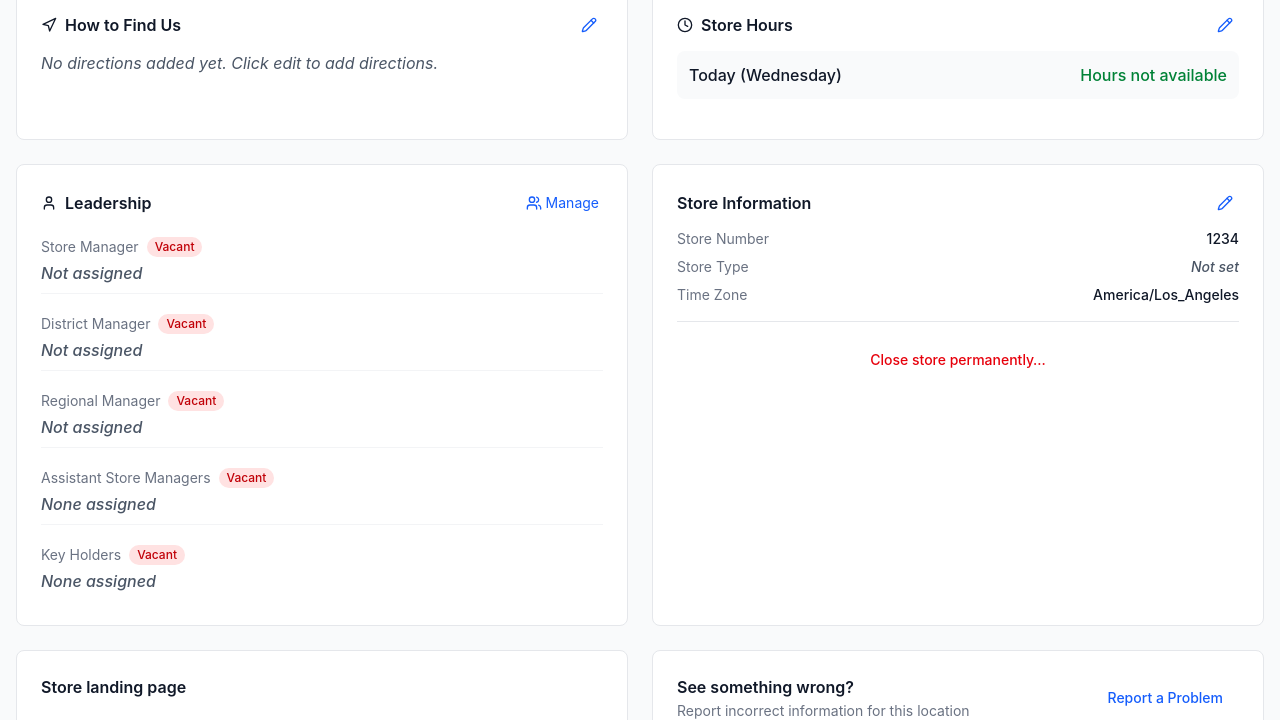
Test: LocationDetailView close and restore › enables the close button only when the typed number matches, including trimmed spaces
The image size is (1280, 720).
(page scrolled)
Click the button "Close store permanently…": (958, 360) left=677, top=338, right=1239, bottom=382
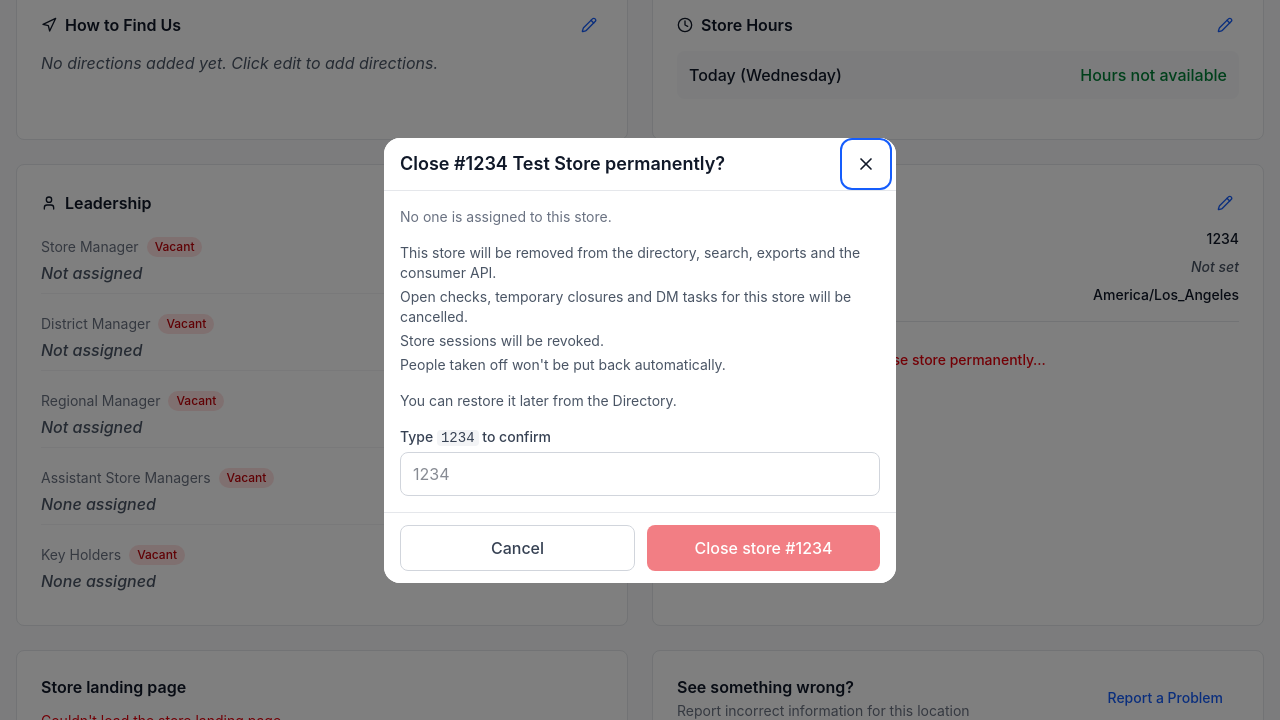
Check: the dialog is shown, box left=384, top=138, right=896, bottom=582
Check: the text "No one is assigned to this store." is shown, box left=400, top=208, right=612, bottom=224
Check: the button "Close store #1234" is disabled, box left=647, top=524, right=880, bottom=570
In the field with placeholder "1234": (640, 474) left=400, top=452, right=880, bottom=496, type "123"
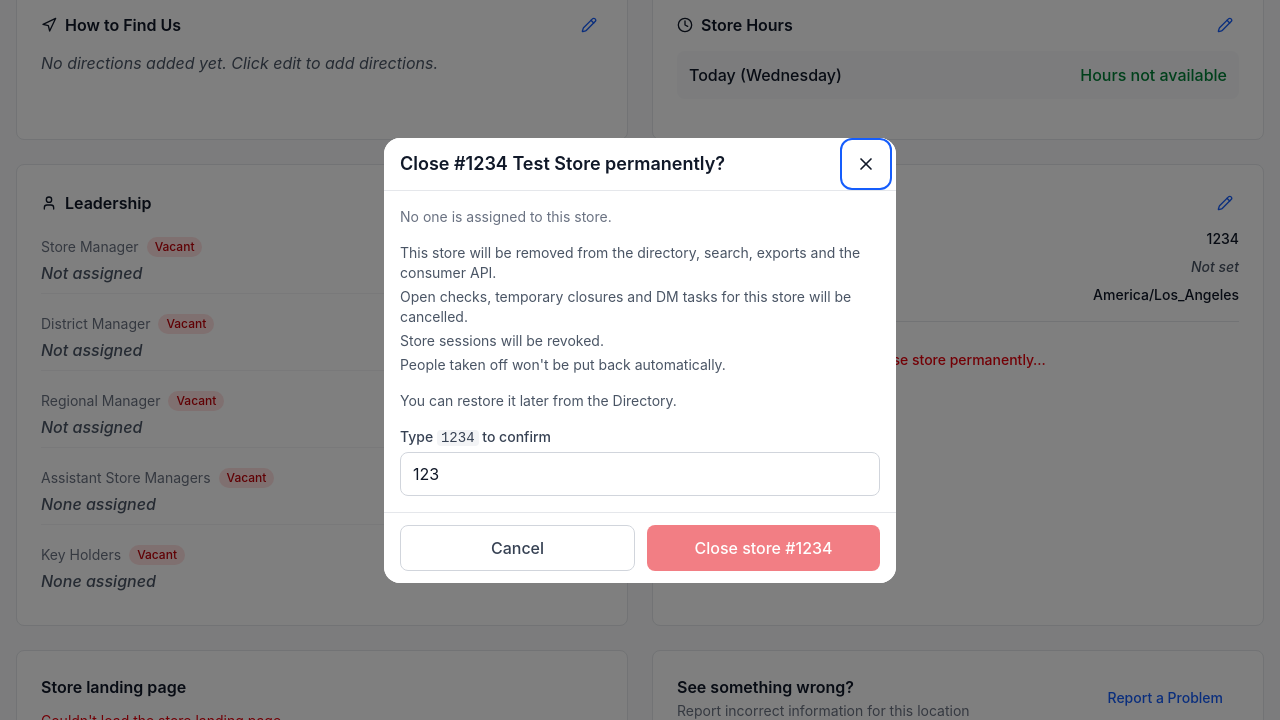
Check: the button "Close store #1234" is disabled, box left=647, top=524, right=880, bottom=570
Replace the text in the field with placeholder "1234" with " 1234 ": (640, 474) left=400, top=452, right=880, bottom=496
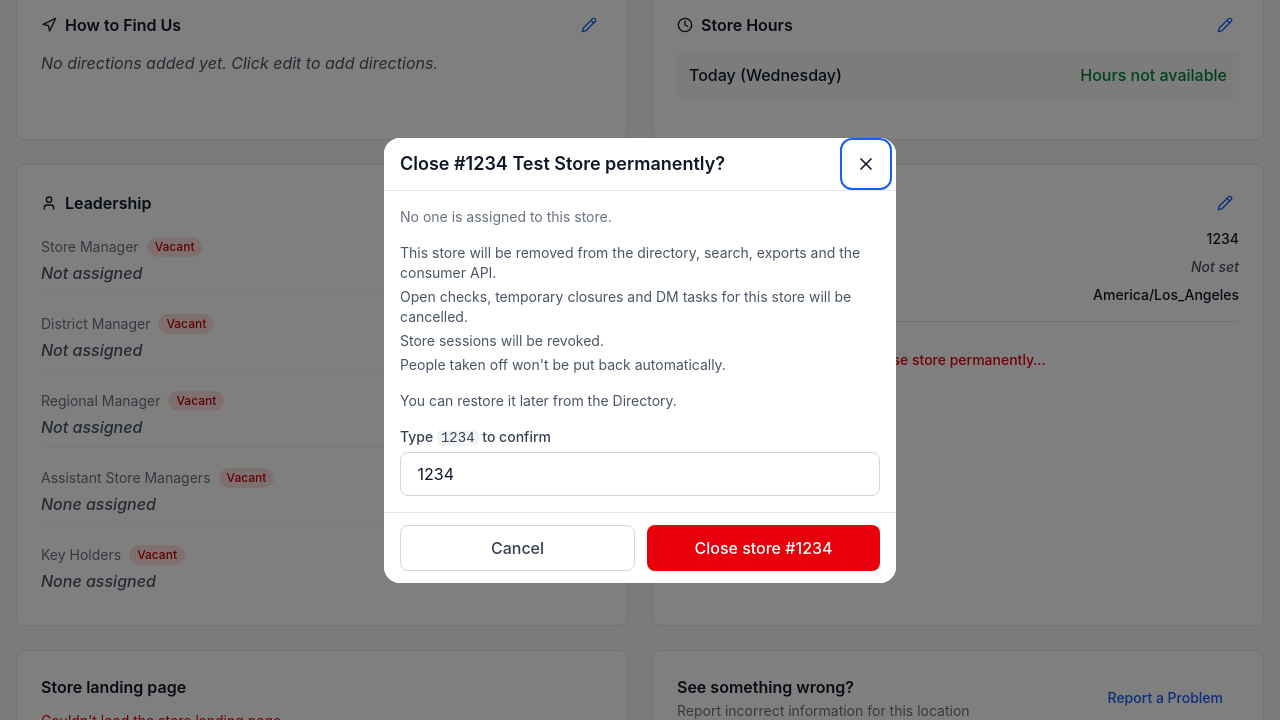
Check: the button "Close store #1234" is enabled, box left=647, top=524, right=880, bottom=570
